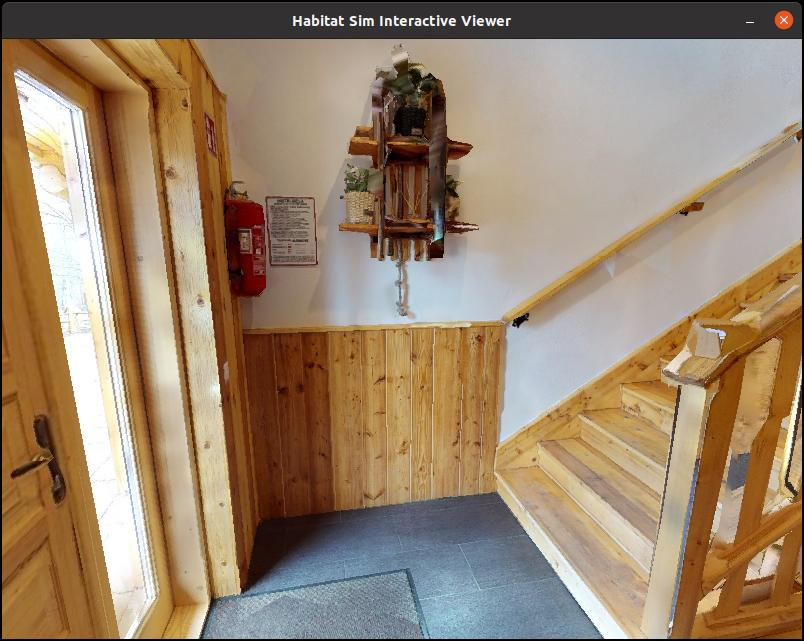stairs: (493, 129, 804, 641)
